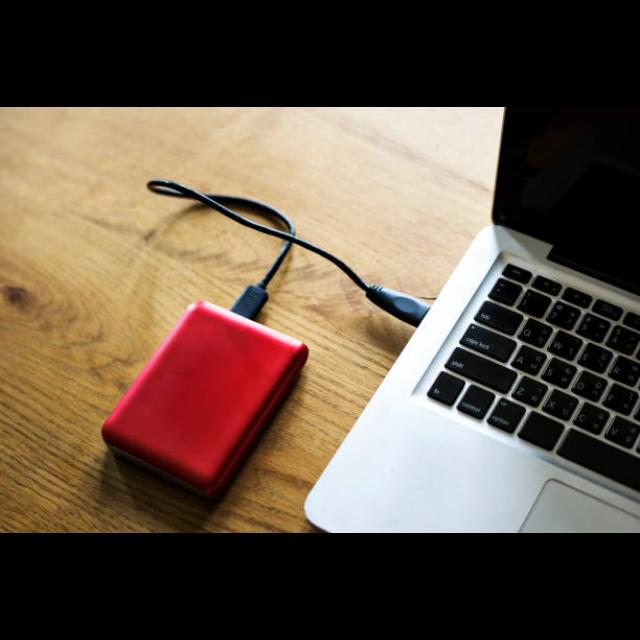HDD: (100, 303, 310, 503)
